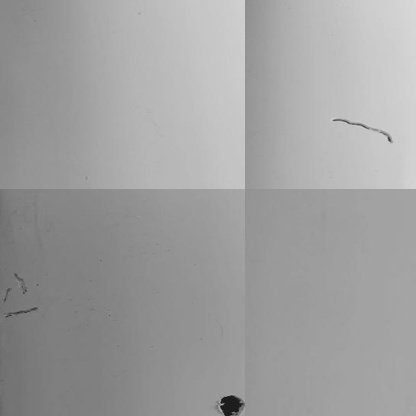fengxi: (332, 113, 397, 147)
kongdong: (213, 390, 250, 416)
